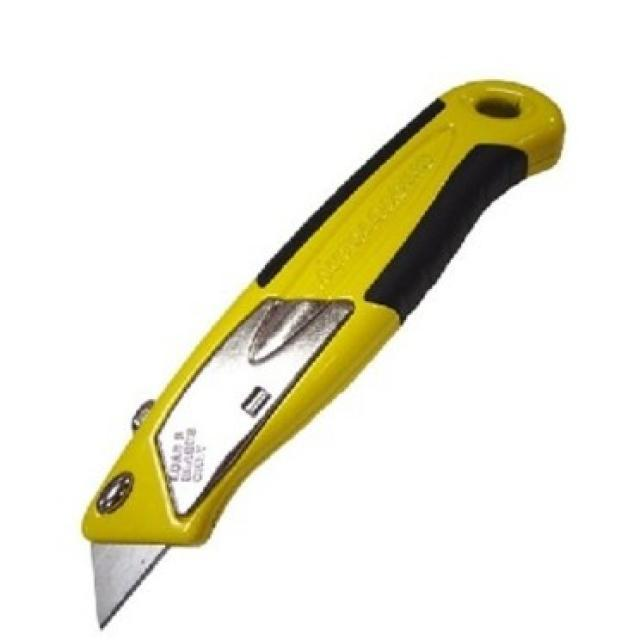cutter: (71, 77, 574, 634)
